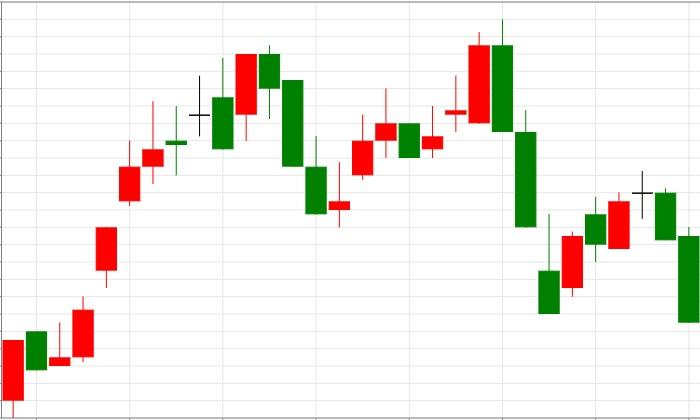evening_star_fall: (538, 171, 676, 315)
three_black_crows_fall: (49, 44, 327, 367), (422, 19, 560, 314)
